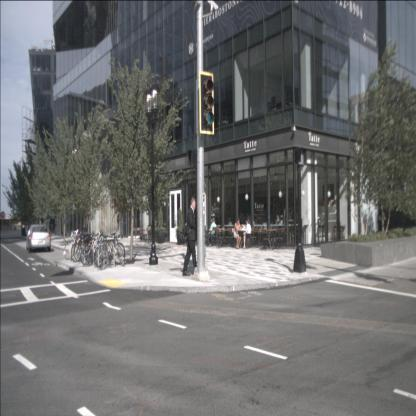human-pedestrian-adult: (181, 196, 200, 277), (206, 217, 217, 248), (241, 219, 252, 250), (233, 218, 242, 250), (224, 216, 232, 239)
vehicle-car: (26, 224, 51, 253)
